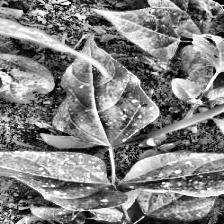Bean Rust: (52, 42, 166, 138), (0, 149, 106, 206), (126, 152, 224, 194)
